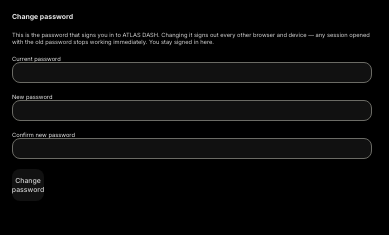
Test: ChangePasswordPanel (F10) › confirms success and clears every field so no password is left sitting in the DOM
Type "the-current-password" into the password field labelled "Current password" at (192, 72), box [12, 62, 372, 83]
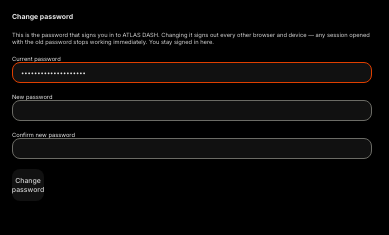
Type "a-brand-new-password" into the password field labelled "New password" at (192, 110), box [12, 100, 372, 121]
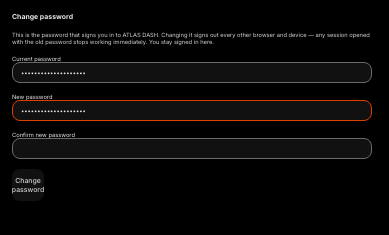
Type "a-brand-new-password" into the password field labelled "Confirm new password" at (192, 148), box [12, 138, 372, 159]
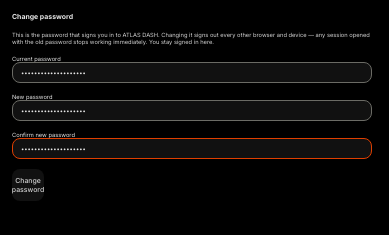
Click the button "Change password" at (28, 185), box [12, 169, 44, 201]
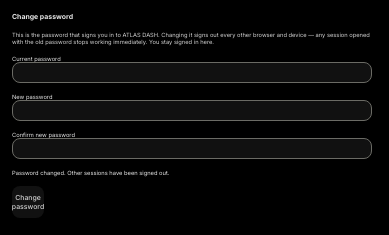
Now the message shows "changed", box [12, 169, 170, 176]
Now the password field labelled "Current password" is empty, box [12, 62, 372, 83]
Now the password field labelled "New password" is empty, box [12, 100, 372, 121]
